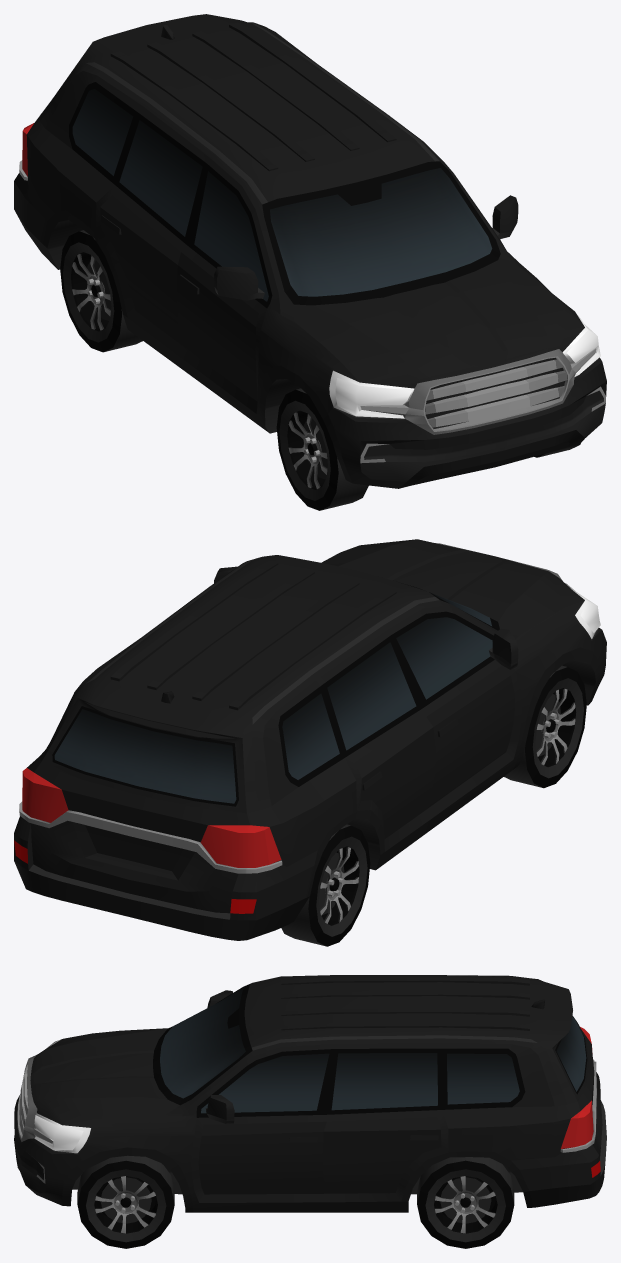
Rendered from Simple_Japanese_Car_V18.fbx.
The picture shows the model from 3 angles, top to bottom: view 1: azimuth 30°, elevation 25°; view 2: azimuth 150°, elevation 25°; view 3: azimuth 270°, elevation 25°; orthographic projection. The views are drawn at different scales.
Visible parts, largest first — view 1: Body.005, FR.005, RR.005; view 2: Body.005, RR.005, FR.005; view 3: Body.005, FL.005, RL.005.
Part boxes in pixels (x1,y1,x2,y2): Body.005: [14, 14, 606, 488]; FR.005: [276, 388, 368, 510]; RR.005: [60, 230, 142, 352]; Body.005: [14, 539, 606, 940]; RR.005: [281, 824, 370, 946]; FR.005: [504, 665, 586, 788]; Body.005: [14, 975, 606, 1212]; FL.005: [77, 1155, 174, 1248]; RL.005: [417, 1157, 514, 1248].
Size of the model in its own units: 2.18 by 1.77 by 4.74.
3 materials, 3 textured.
